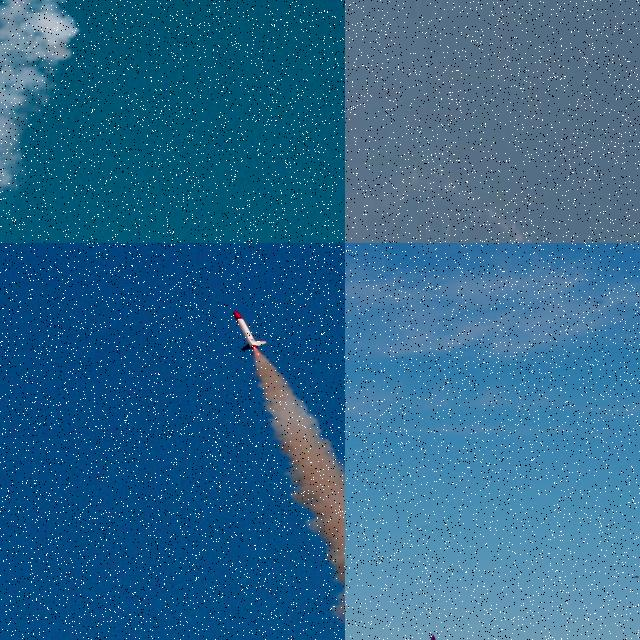Rocket: (234, 310, 267, 351)
